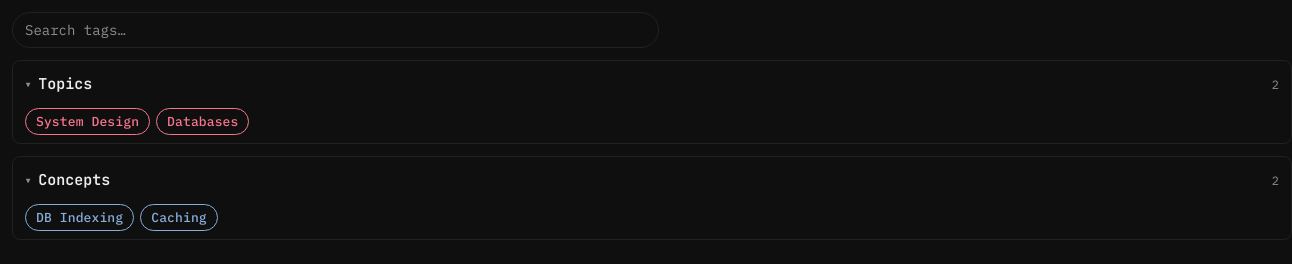
TagPicker › maps DuplicateTagError when creating
Step 1. Type "BrandNew" into the search field → (336, 30), box [12,12,659,48]
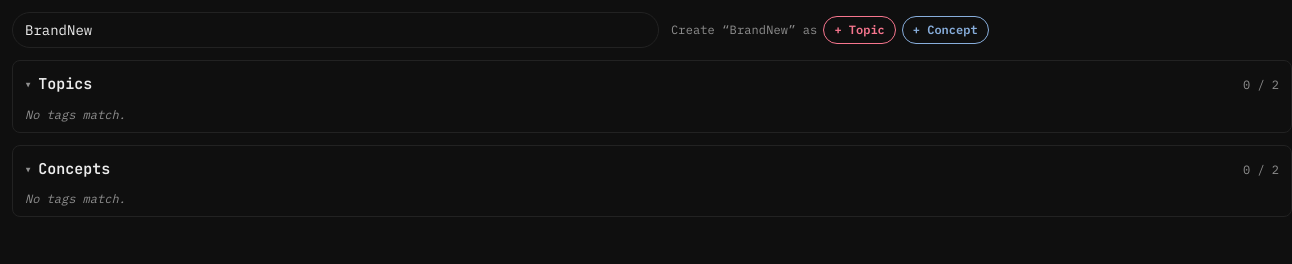
Step 2. Click the button "+ Topic" → click(860, 30), box [823,16,896,44]
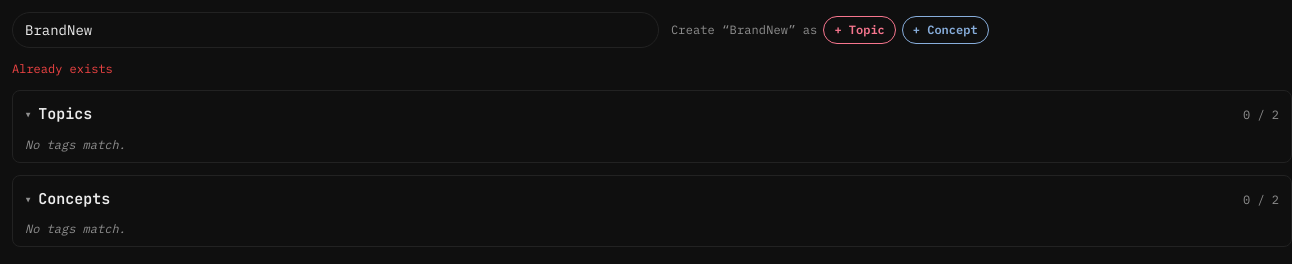
Expected: the text "Already exists" is shown, [12,61,113,76]
